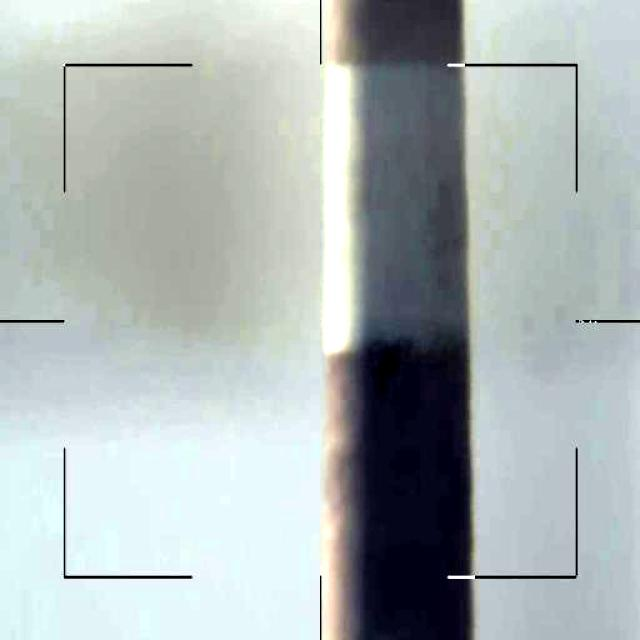bird: (349, 328, 420, 394)
